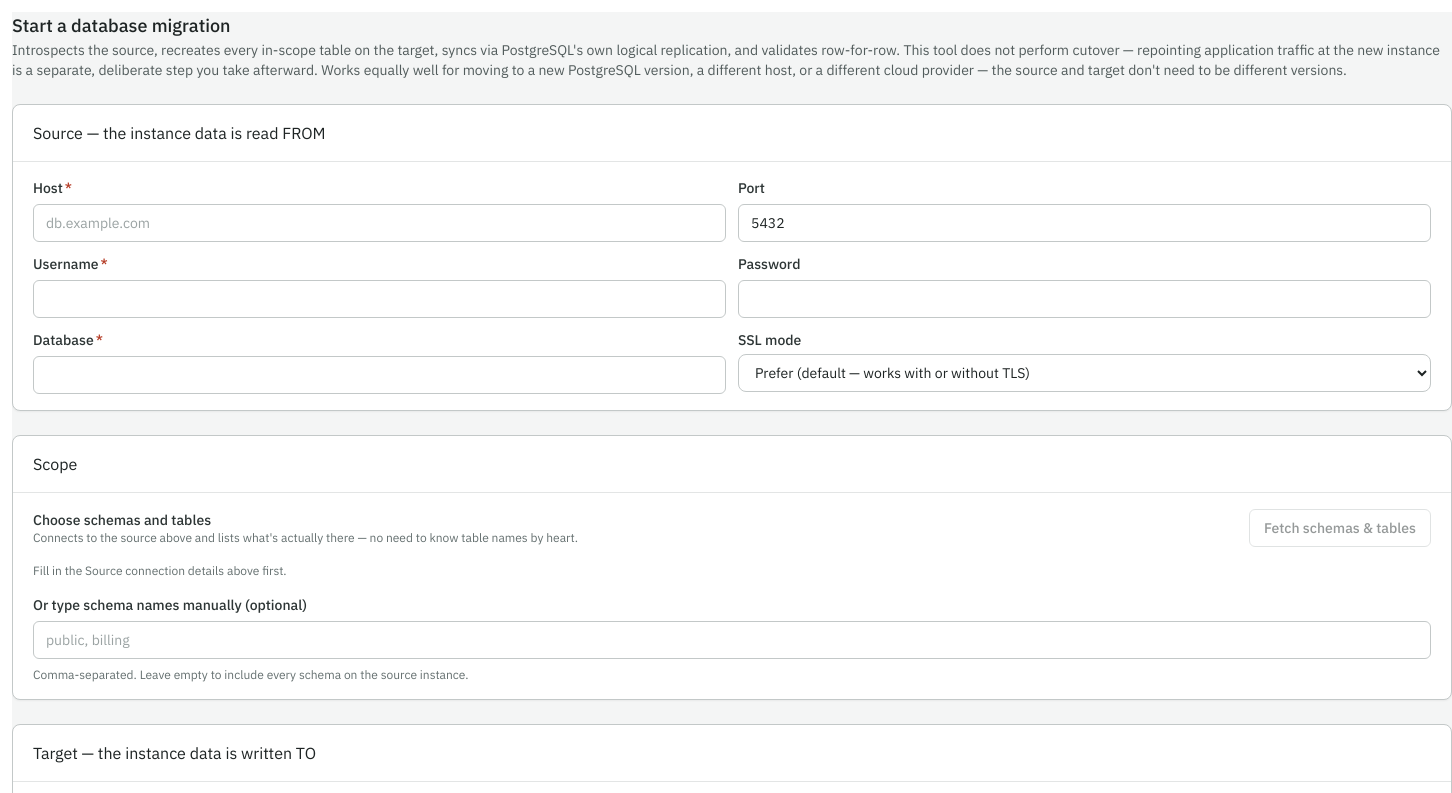
Test: NewUpgrade › fetches and renders the schema/table picker, defaulting to everything selected
In the field labelled "Host*": (380, 223) left=33, top=204, right=726, bottom=242, type "old-host"
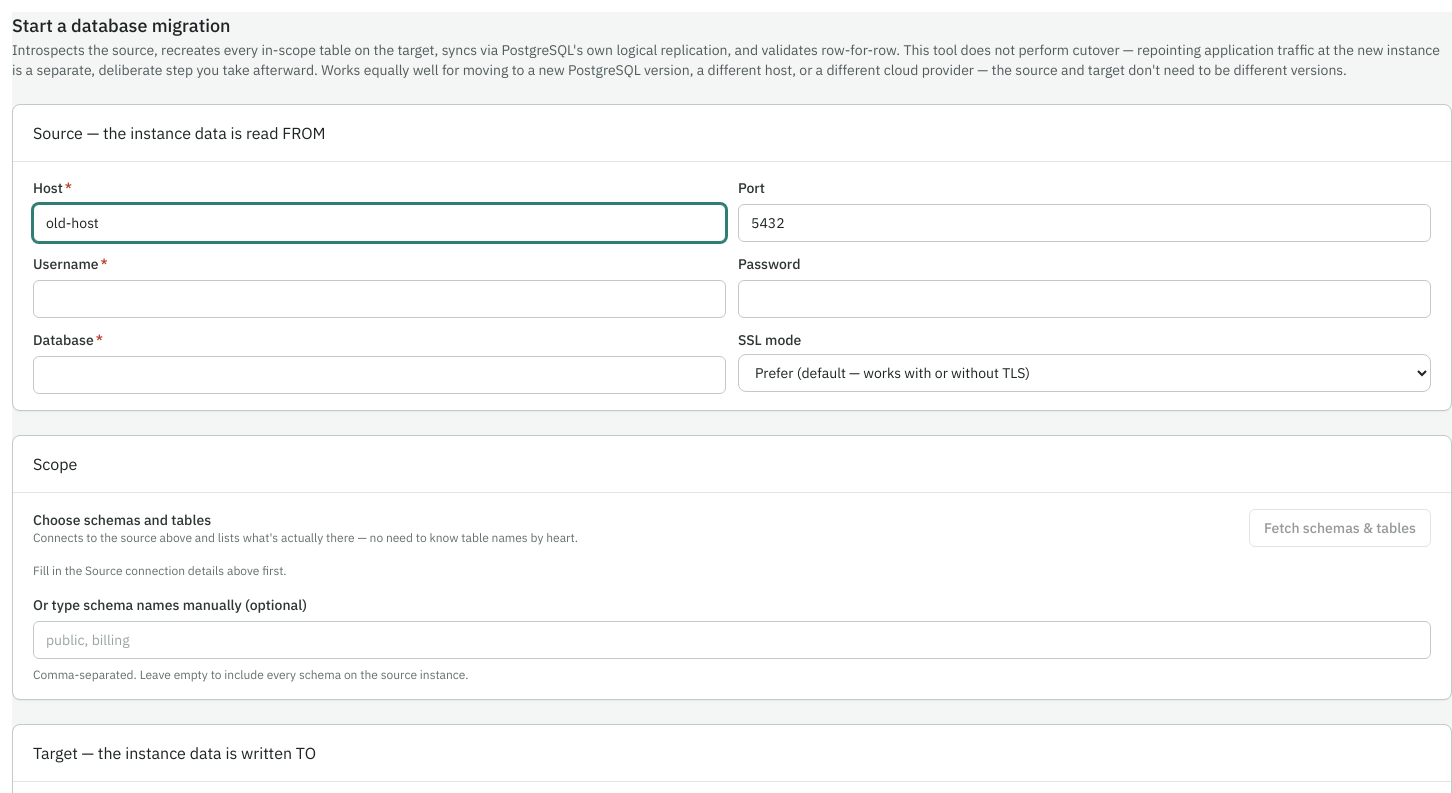
In the field labelled "Username*": (380, 299) left=33, top=280, right=726, bottom=318, type "u"
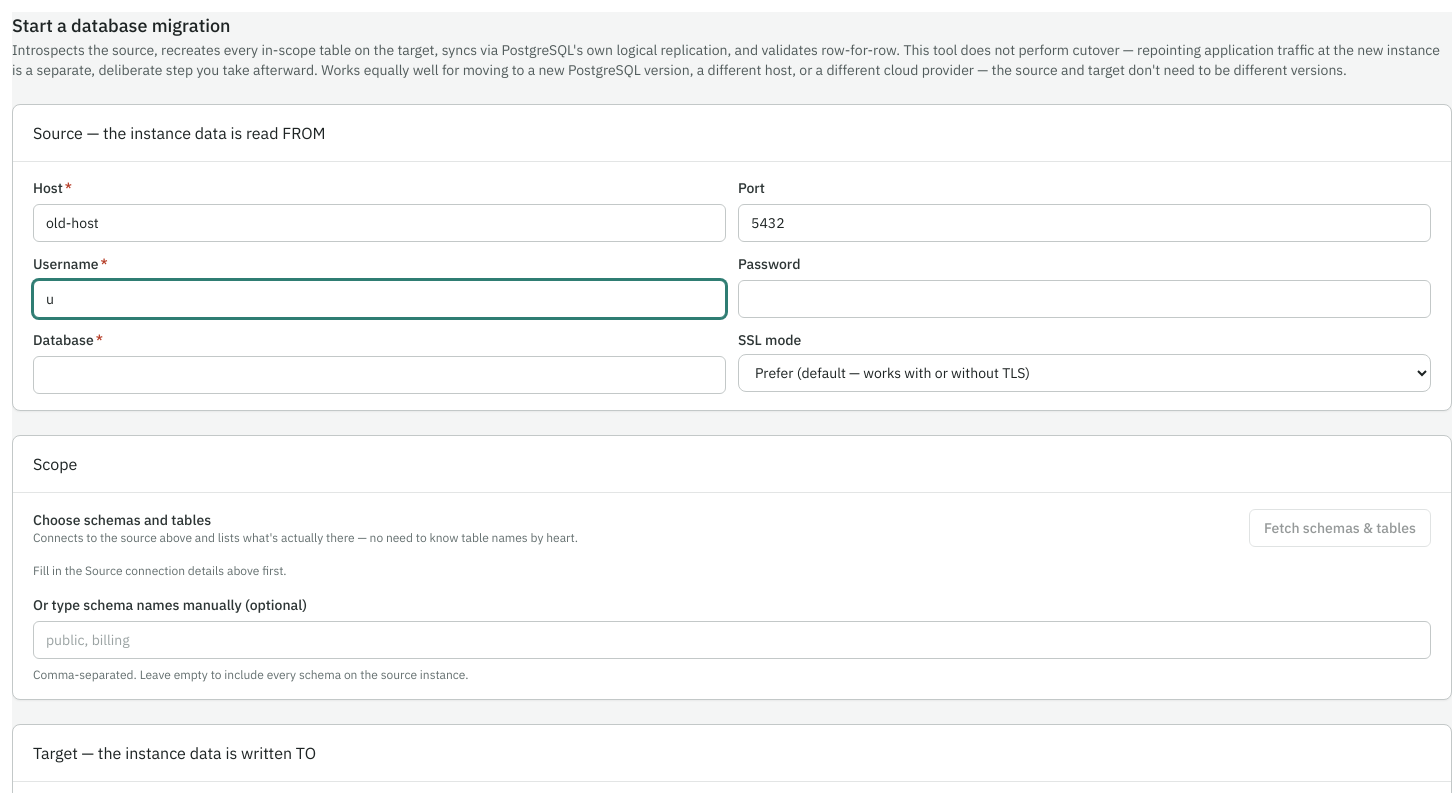
In the password field labelled "Password": (1084, 299) left=738, top=280, right=1431, bottom=318, type "p"
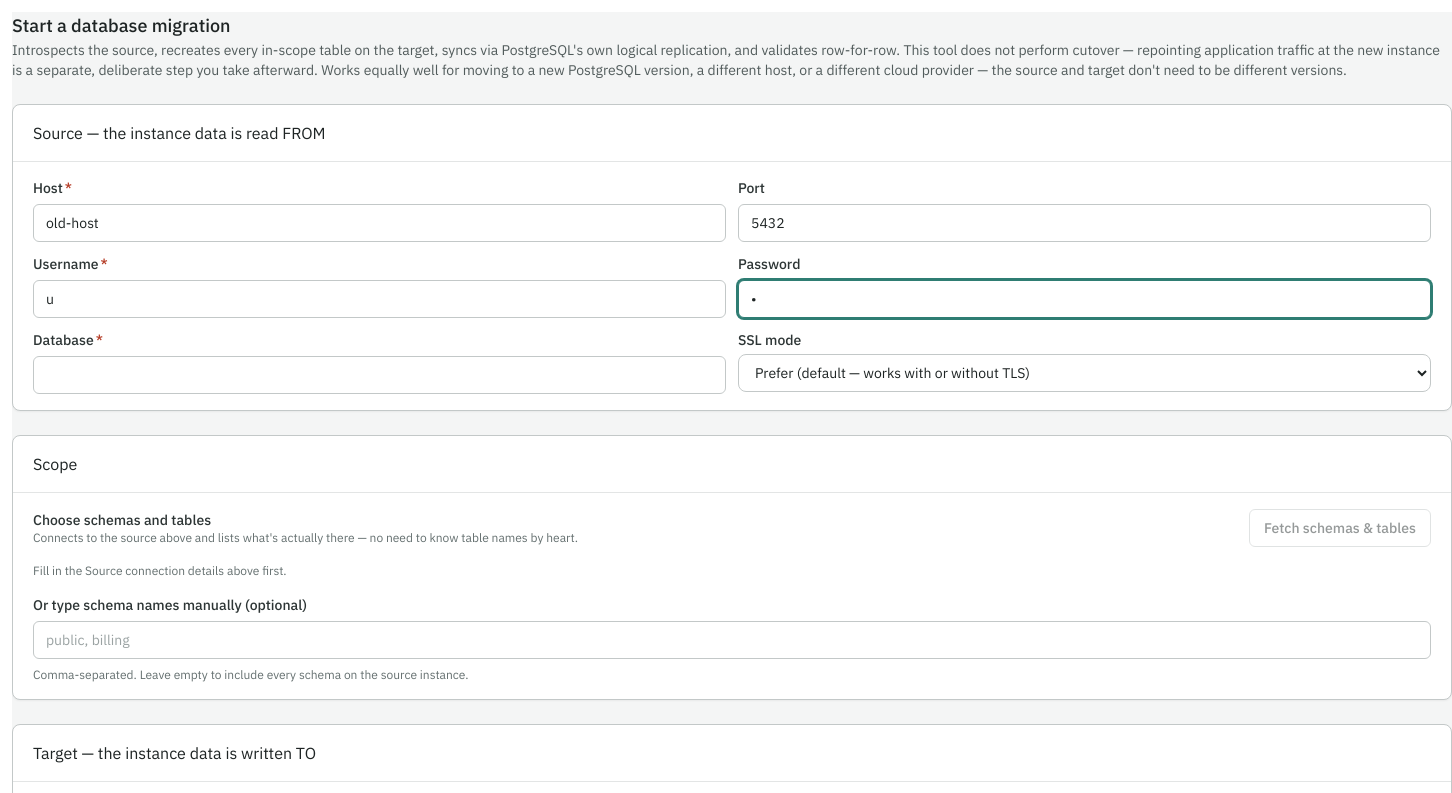
In the field labelled "Database*": (380, 375) left=33, top=356, right=726, bottom=394, type "db"
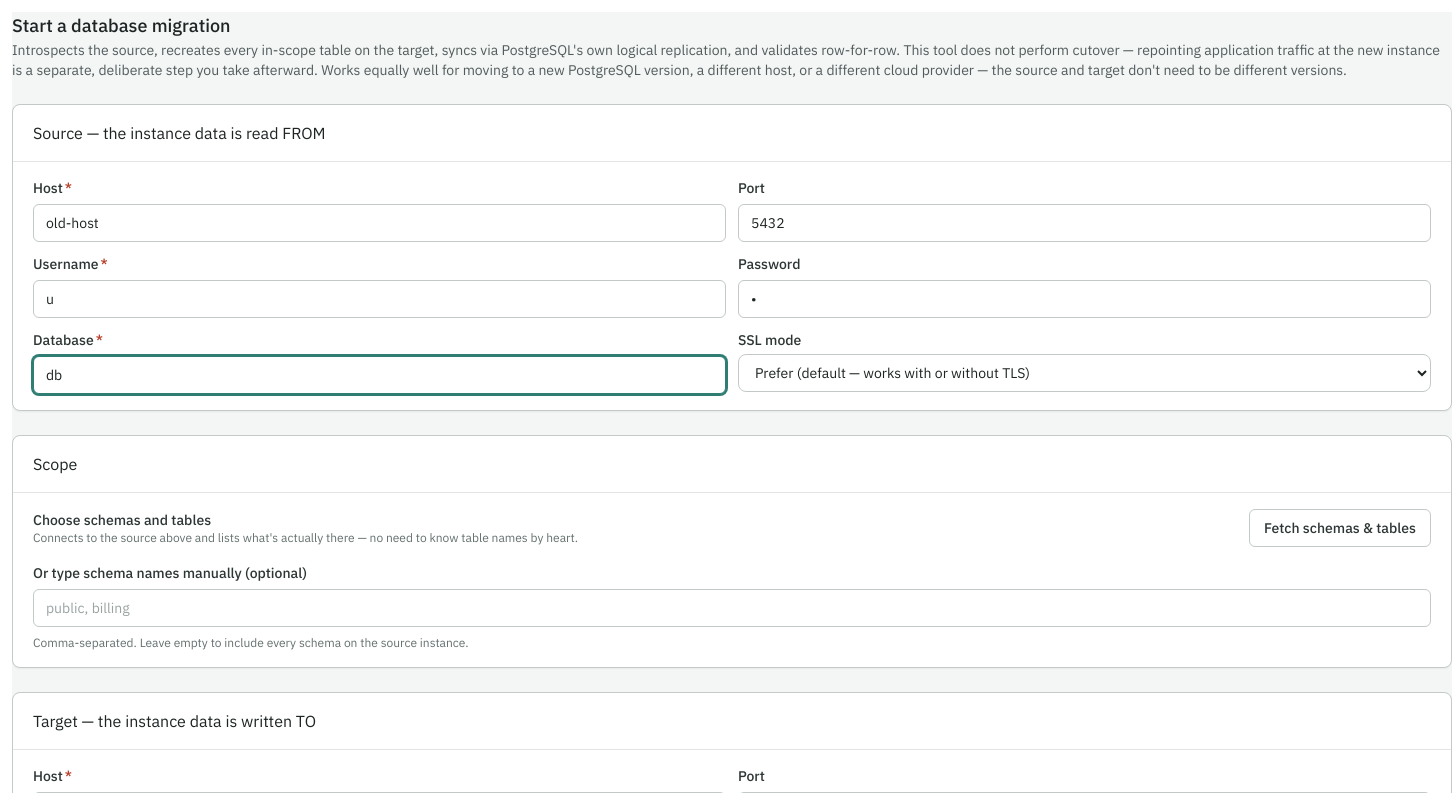
Click the button "Fetch schemas & tables": (1340, 528) left=1249, top=509, right=1431, bottom=547
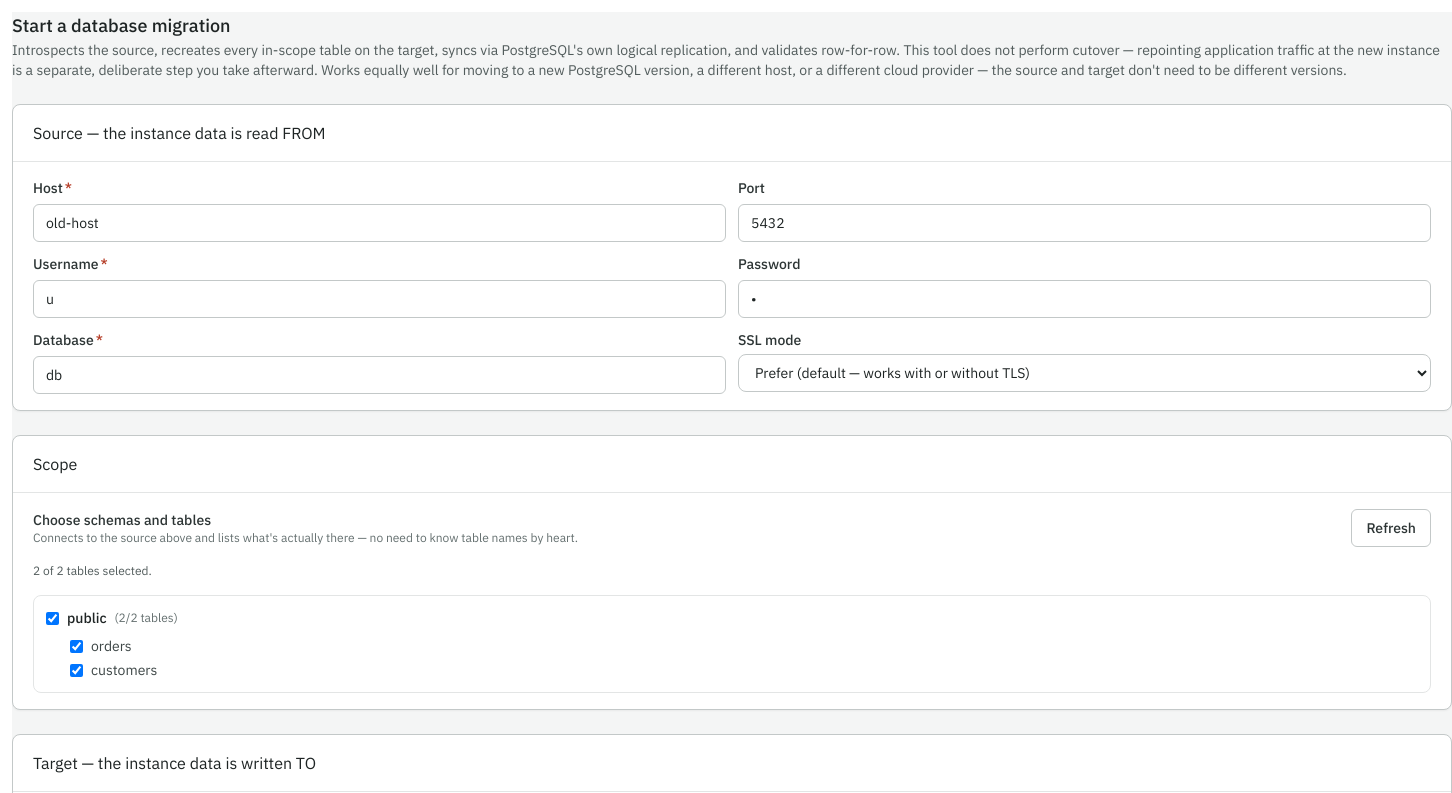
Expected: the text "orders" is shown, left=70, top=637, right=132, bottom=655
Expected: the text "customers" is shown, left=70, top=661, right=157, bottom=679
Expected: the text "2 of 2 tables selected." is shown, left=33, top=563, right=152, bottom=578
